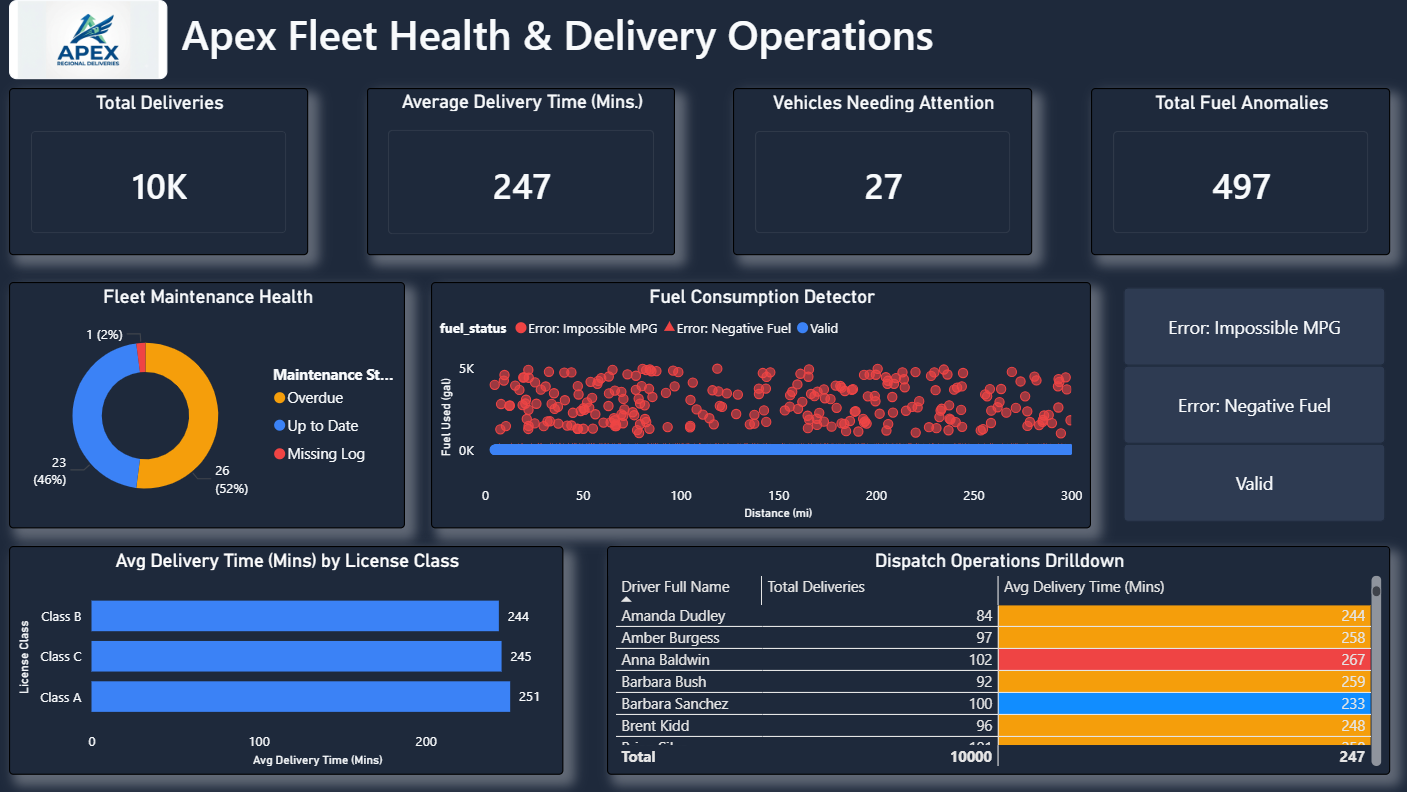

Layout of this report page (visuals, bound fields, positions):
{"tool":"powerbi","page":{"name":"Page 1","canvas":[1280,720],"ordinal":0},"visuals":[{"type":"textbox","box":[160,0,736,72],"z":0},{"type":"cardVisual","title":"Total Deliveries","fields":{"Data":["delivery_routes_clean.Total Deliveries"]},"box":[8,80,272,152],"z":1000},{"type":"cardVisual","title":"Average Delivery Time  (Mins.)","fields":{"Data":["delivery_routes_clean.Avg Delivery Time (Mins)"]},"box":[333.3,80,280,152],"z":2000},{"type":"cardVisual","title":"Vehicles Needing Attention","fields":{"Data":["vehicles_clean.Vehicles Needing Attention"]},"box":[666.7,80,272,152],"z":3000},{"type":"cardVisual","title":"Total Fuel Anomalies","fields":{"Data":["delivery_routes_clean.Total Fuel Anomalies"]},"box":[992,80,272,152],"z":4000},{"type":"donutChart","title":"Fleet Maintenance Health","fields":{"Category":["vehicles_clean.maintenance_status"],"Y":["CountNonNull(vehicles_clean.vehicle_id)"]},"box":[8,256,360,224],"z":5000},{"type":"scatterChart","title":"Fuel Consumption Detector","fields":{"X":["delivery_routes_clean.distance_miles"],"Y":["delivery_routes_clean.fuel_used_gallons"],"Series":["delivery_routes_clean.fuel_status"]},"box":[392,256,600,224],"z":6000},{"type":"advancedSlicerVisual","title":"Fuel Status","fields":{"Values":["delivery_routes_clean.fuel_status"]},"box":[1016,256,248,224],"z":7000},{"type":"clusteredBarChart","title":"Avg Delivery Time (Mins) by License Class","fields":{"Category":["drivers_clean.license_class"],"Y":["delivery_routes_clean.Avg Delivery Time (Mins)"]},"box":[16,496,504,208],"z":8000},{"type":"pivotTable","title":"Dispatch Operations Drilldown","fields":{"Values":["delivery_routes_clean.Total Deliveries","delivery_routes_clean.Avg Delivery Time (Mins)"],"Rows":["drivers_clean.Driver Full Name"]},"box":[552,496,712,208],"z":8001},{"type":"image","box":[8,0,144,72],"z":8002}]}

Visuals, with their boxes in screenshot pixels (x1, y1, x2, y2), scaled from the page's 1280x720 canvas onto the 1407x792 screenshot:
textbox: bbox=[176, 0, 985, 79]
"Total Deliveries" cardVisual: bbox=[9, 88, 308, 255]
"Average Delivery Time  (Mins.)" cardVisual: bbox=[366, 88, 674, 255]
"Vehicles Needing Attention" cardVisual: bbox=[733, 88, 1032, 255]
"Total Fuel Anomalies" cardVisual: bbox=[1090, 88, 1389, 255]
"Fleet Maintenance Health" donutChart: bbox=[9, 282, 405, 528]
"Fuel Consumption Detector" scatterChart: bbox=[431, 282, 1090, 528]
"Fuel Status" advancedSlicerVisual: bbox=[1117, 282, 1389, 528]
"Avg Delivery Time (Mins) by License Class" clusteredBarChart: bbox=[18, 546, 572, 774]
"Dispatch Operations Drilldown" pivotTable: bbox=[607, 546, 1389, 774]
image: bbox=[9, 0, 167, 79]
